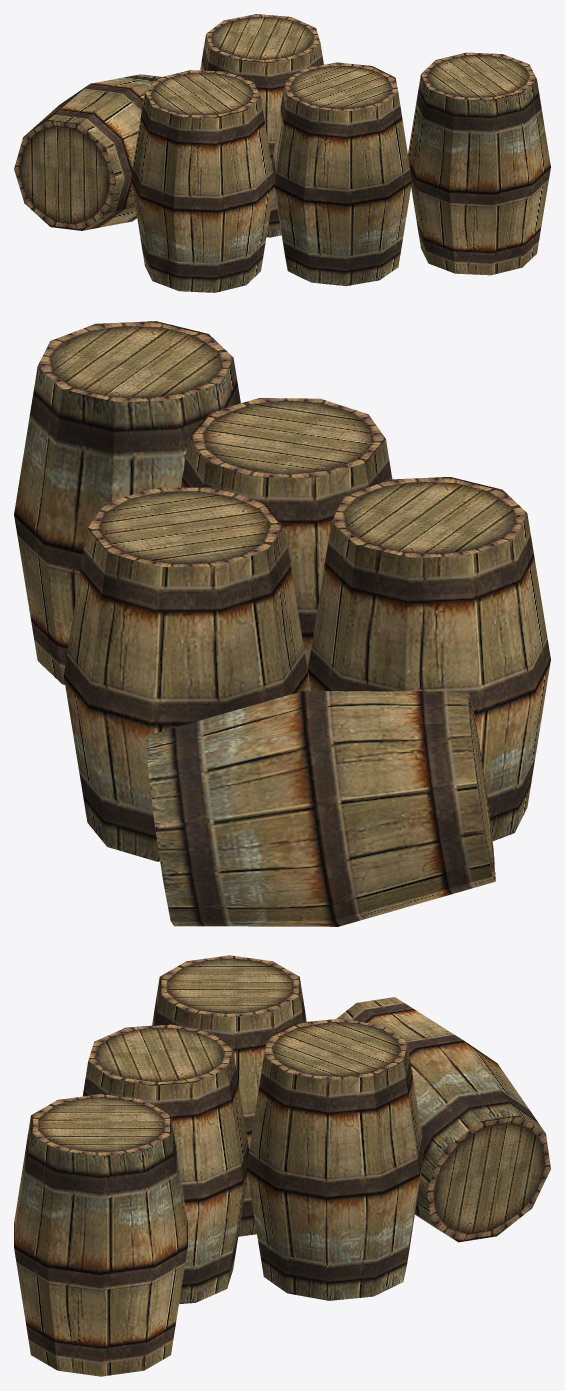
File: Barl02.glb
3 views of the same model, one above another, from view 1: azimuth 30°, elevation 25°; view 2: azimuth 150°, elevation 25°; view 3: azimuth 270°, elevation 25° (orthographic). The views are drawn at different scales.
Parts seen in each view (by area): view 1: _Barl02; view 2: _Barl02; view 3: _Barl02.
Boxes of the visible parts, x1=… form: _Barl02: x1=14, y1=14, x2=550, y2=292; _Barl02: x1=14, y1=321, x2=550, y2=926; _Barl02: x1=14, y1=955, x2=550, y2=1376.
Size of the model in its own units: 3.52 by 1.48 by 3.25.
Materials: 1 (1 with a texture image).
